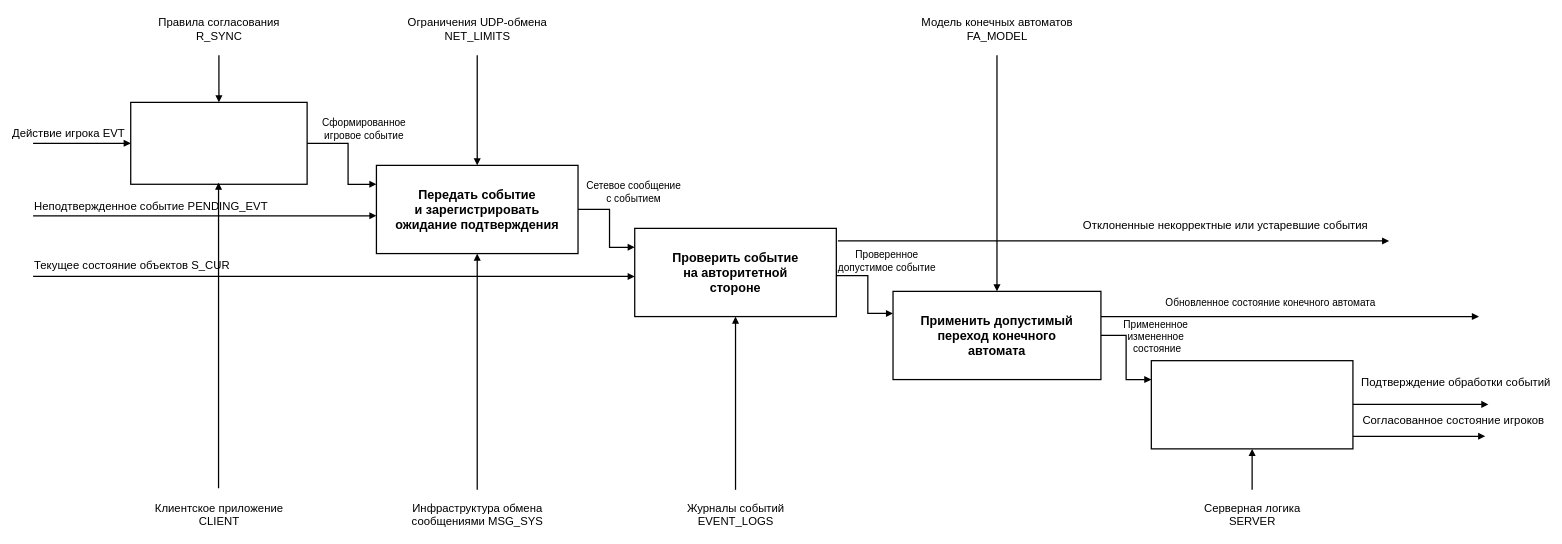
This 1562x544 diagram has some shape labels left out. The shapes that lost their labels are listed below. From the top down, each one's centre as x and y in pixels, then its label:
the point at 218,143: Сформировать игровое событие
the point at 1251,404: Подтвердить обработку и распространить результат
